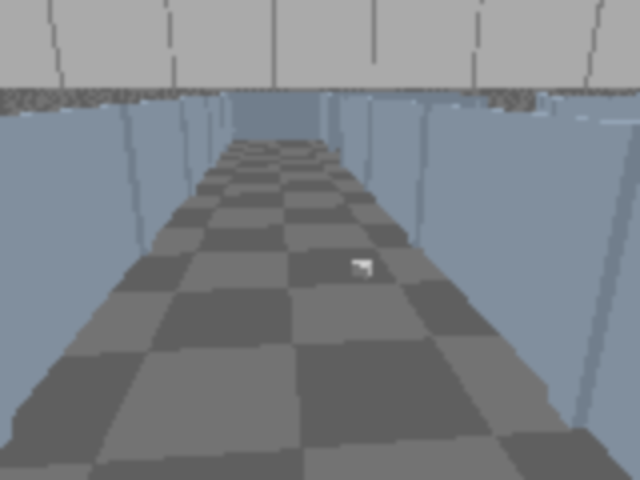puck: (351, 259, 372, 279)
